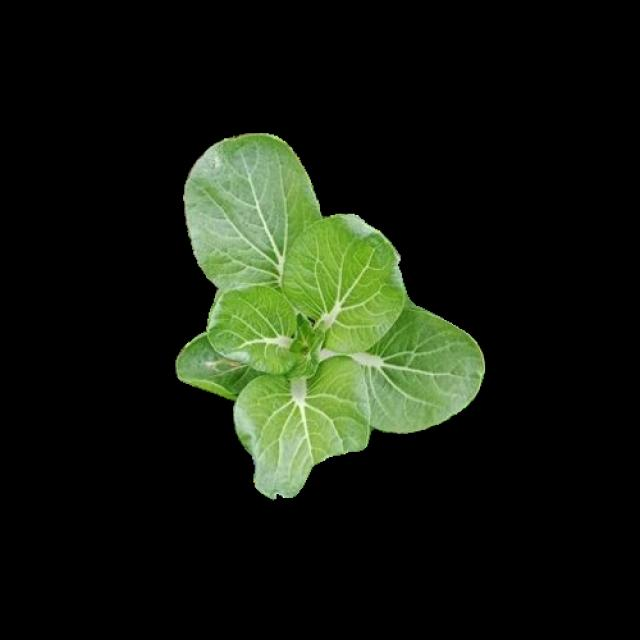not-mature: (175, 132, 484, 493)
unhealthy: (237, 358, 372, 496), (175, 337, 268, 398)
